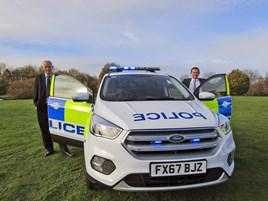Police Car: (51, 51, 237, 197)
